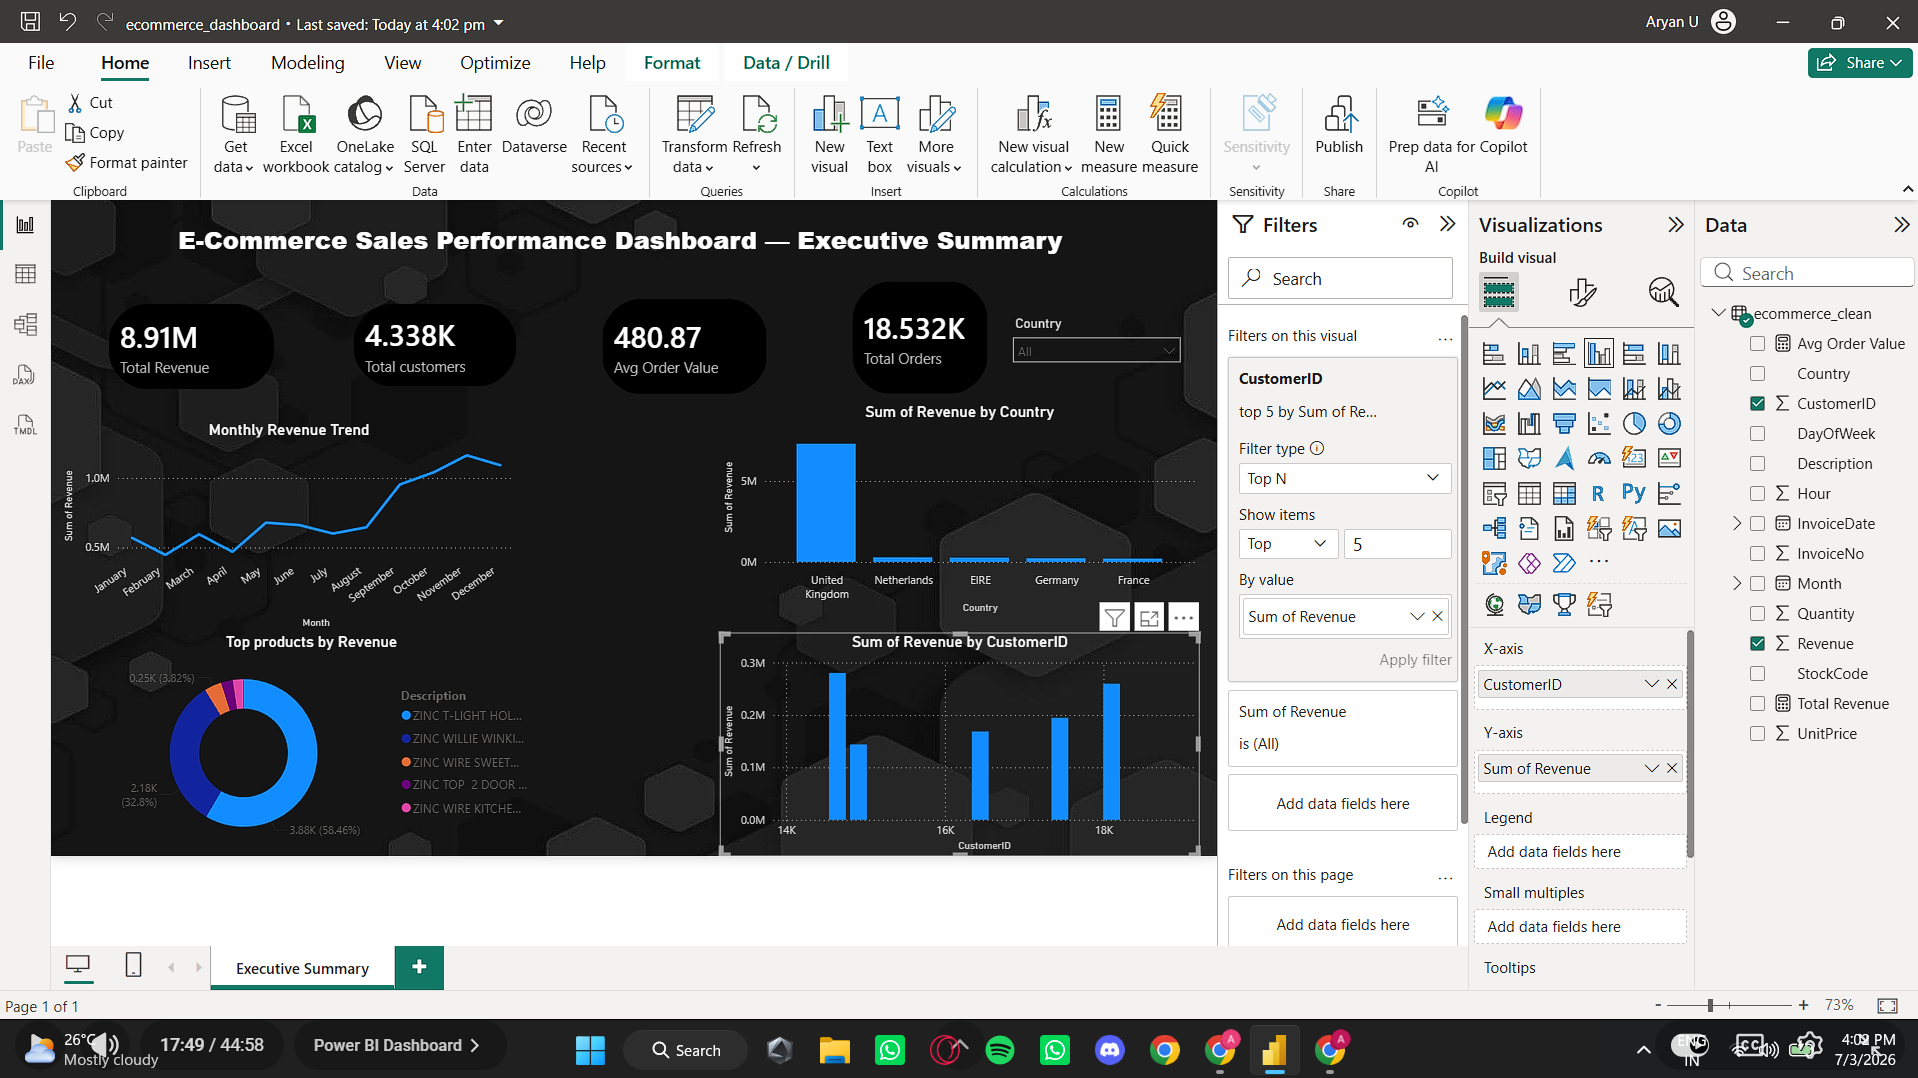

Layout of this report page (visuals, bound fields, positions):
{"tool":"powerbi","page":{"name":"Executive Summary","canvas":[1280,720],"ordinal":0},"visuals":[{"type":"cardVisual","fields":{"Data":["Count(ecommerce_clean.InvoiceNo)"]},"box":[863.1,72.7,182.5,157.8],"z":0},{"type":"cardVisual","fields":{"Data":["ecommerce_clean.Avg Order Value"]},"box":[588.7,91.9,214.1,138.6],"z":1000},{"type":"cardVisual","fields":{"Data":["Count(ecommerce_clean.CustomerID)"]},"box":[315.6,97.4,212.7,124.9],"z":2000},{"type":"cardVisual","fields":{"Data":["ecommerce_clean.Total Revenue"]},"box":[46.7,97.4,215.4,127.6],"z":3000},{"type":"textbox","box":[0,19.2,1250.1,79.6],"z":4000},{"type":"lineChart","title":" Monthly Revenue Trend","fields":{"Category":["ecommerce_clean.Month.Variation.Date Hierarchy.Month"],"Y":["Sum(ecommerce_clean.Revenue)"]},"box":[9.6,241.5,503.6,233.3],"z":5000},{"type":"columnChart","fields":{"Category":["ecommerce_clean.Country"],"Y":["Sum(ecommerce_clean.Revenue)"]},"box":[734.1,222.3,526.9,236],"z":6000},{"type":"donutChart","title":"Top products by Revenue","fields":{"Category":["ecommerce_clean.Description"],"Y":["Sum(ecommerce_clean.Revenue)"]},"box":[34.3,474.8,503.6,245.6],"z":6001},{"type":"clusteredColumnChart","fields":{"Category":["ecommerce_clean.CustomerID"],"Y":["Sum(ecommerce_clean.Revenue)"]},"box":[734.1,474.8,526.9,245.6],"z":6002},{"type":"slicer","fields":{"Values":["ecommerce_clean.Country"]},"box":[1045.6,122.1,204.5,63.1],"z":6003}]}

Visuals, with their boxes on the page's 1280x720 design canvas (x1, y1, x2, y2). These are canvas units, not pixel positions in the 1918x1078 screenshot, which may show the page scaled, cropped or inside an application window:
cardVisual - Count(ecommerce_clean.InvoiceNo): crop(863, 73, 1046, 230)
cardVisual - ecommerce_clean.Avg Order Value: crop(589, 92, 803, 230)
cardVisual - Count(ecommerce_clean.CustomerID): crop(316, 97, 528, 222)
cardVisual - ecommerce_clean.Total Revenue: crop(47, 97, 262, 225)
textbox: crop(0, 19, 1250, 99)
" Monthly Revenue Trend" lineChart: crop(10, 242, 513, 475)
columnChart - ecommerce_clean.Country x Sum(ecommerce_clean.Revenue): crop(734, 222, 1261, 458)
"Top products by Revenue" donutChart: crop(34, 475, 538, 720)
clusteredColumnChart - ecommerce_clean.CustomerID x Sum(ecommerce_clean.Revenue): crop(734, 475, 1261, 720)
slicer - ecommerce_clean.Country: crop(1046, 122, 1250, 185)
